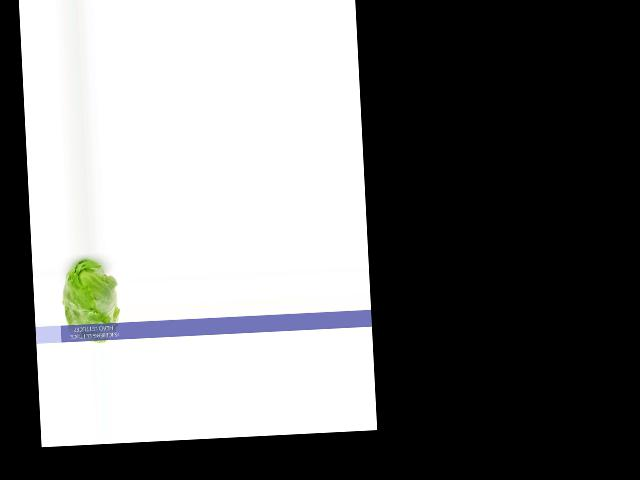lettuce: (62, 254, 121, 344)
